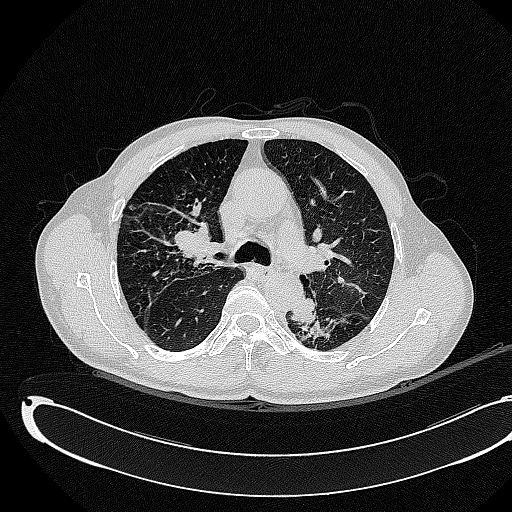nodule: (309, 320, 329, 338)
